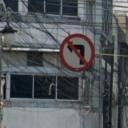NoVirarEsquerda: (58, 33, 98, 75)
